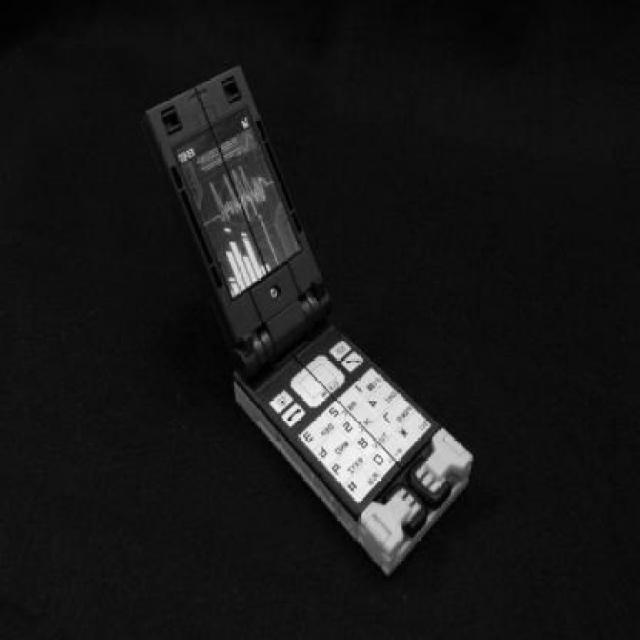fake: (137, 53, 477, 599)
